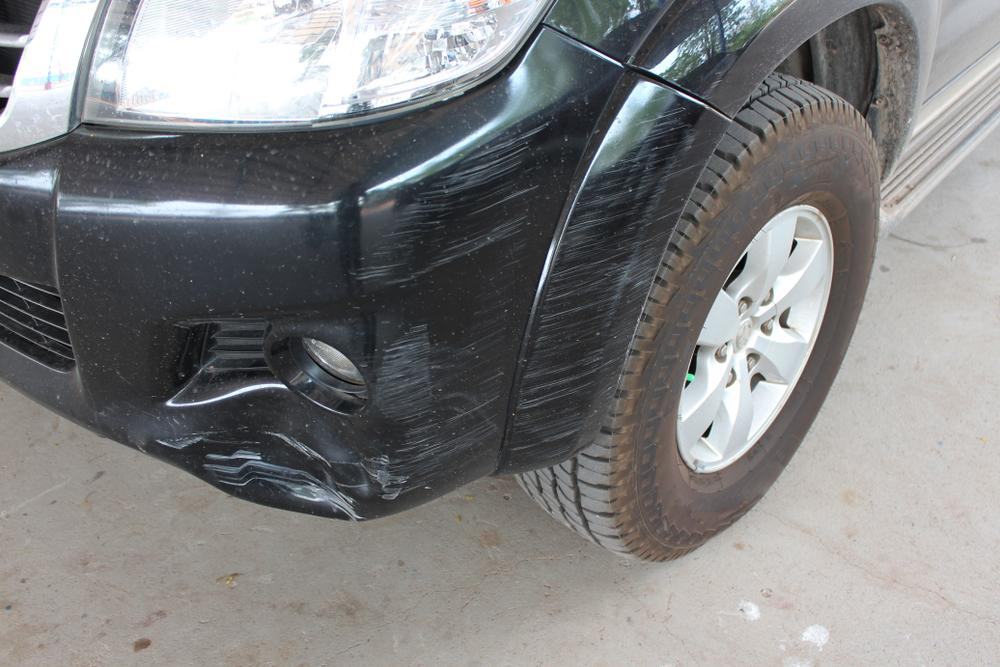dent: (197, 390, 367, 511)
scratch: (355, 89, 721, 502)
